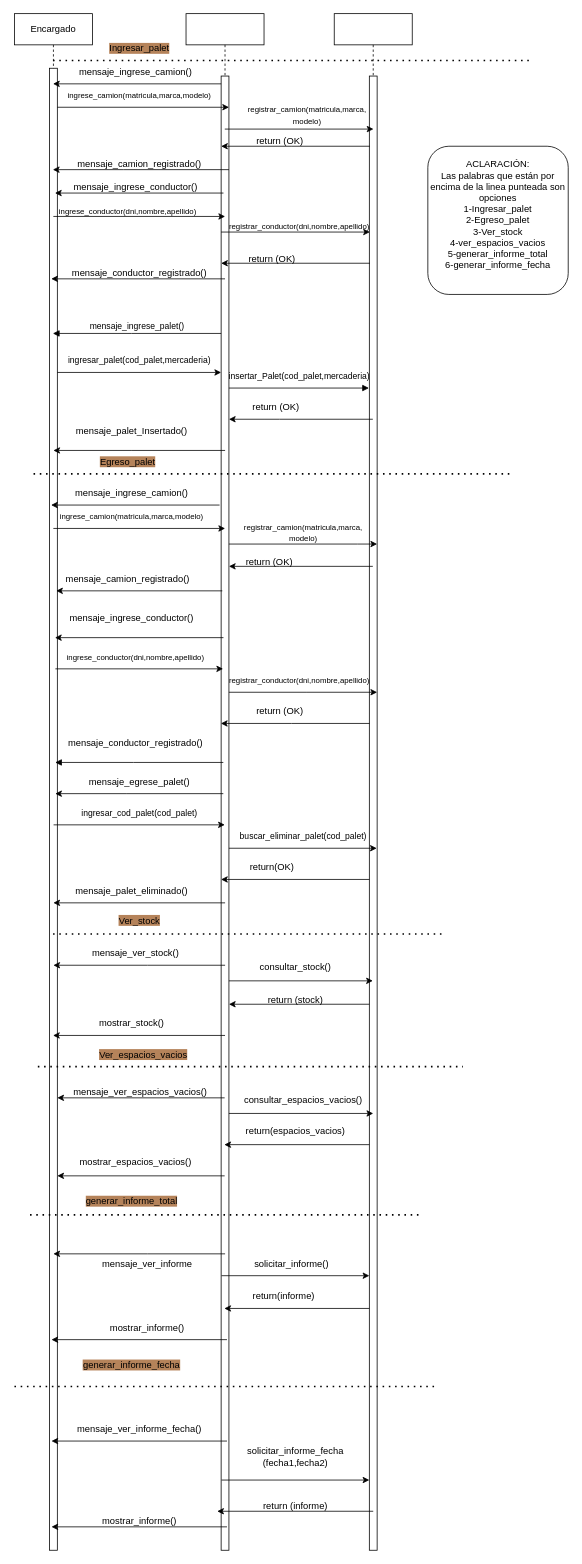
The diagram is 582 pixels wide and 1564 high, and some of its shapes have lost their labels. The shapes that lost their labels are listed below. From the top down, each one's box as (x1, y1, x2, y2) in pixels, then its label:
(185, 13, 264, 1550): Sistema
(333, 13, 412, 1550): Base de datos
